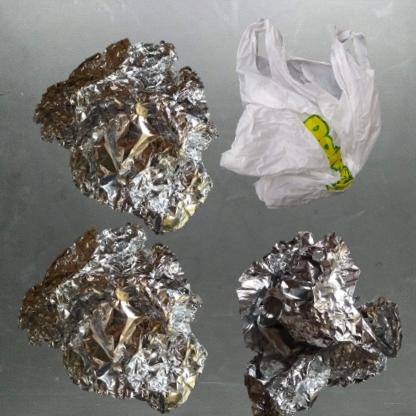aluminio: (10, 10, 259, 256), (10, 213, 219, 416), (213, 213, 416, 416)
bolsa: (213, 10, 403, 233)
